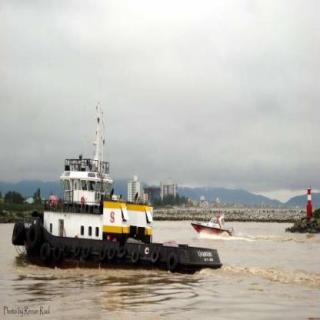Tug Boat: (9, 114, 223, 268)
